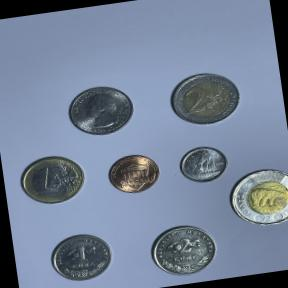coin: (160, 63, 246, 133), (142, 217, 222, 283), (12, 147, 90, 212), (62, 78, 140, 143), (224, 164, 288, 232), (102, 148, 164, 198), (176, 141, 232, 188)
